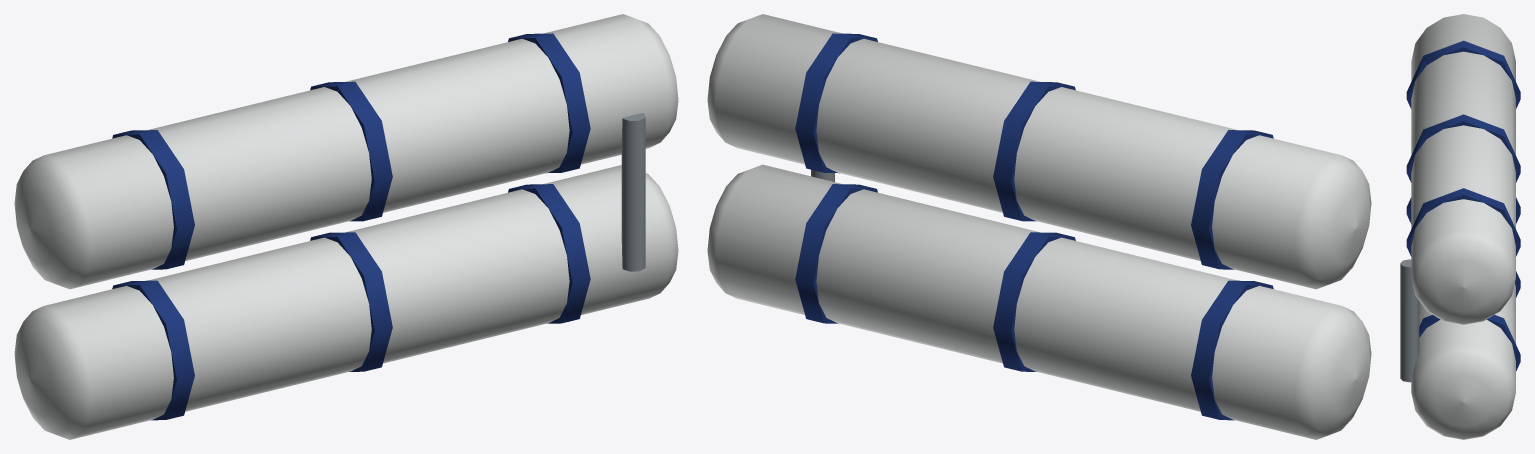
The model's file is l4_water.obj.
The picture shows the model from 3 angles, left to right: view 1: azimuth 30°, elevation 25°; view 2: azimuth 150°, elevation 25°; view 3: azimuth 270°, elevation 25°; orthographic projection. The views are drawn at different scales.
Parts seen in each view (by area): view 1: l4_water; view 2: l4_water; view 3: l4_water.
Boxes of the visible parts, bbox=[...] form: l4_water: bbox=[14, 14, 678, 439]; l4_water: bbox=[707, 14, 1371, 439]; l4_water: bbox=[1400, 14, 1520, 439].
Bounding box in the file's own units: 1.76 × 0.76 × 0.38.
